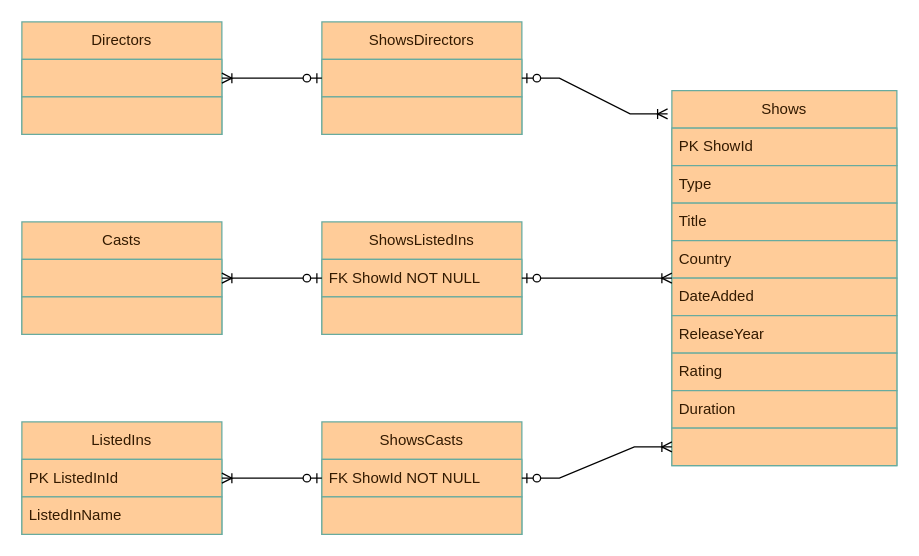
Some shapes in this 919 by 556 pixel diagram are drawn without their labels. The centre of each missing label's shape, as x and y in pixels:
CastName: [121,315]
Description: [784,446]
DirectorName: [121,115]
FK CastId NOT NULL: [421,515]
FK Director Id NOT NULL: [421,115]
FK ListedInId NOT NULL: [421,315]
FK ShowId NOT NULL: [421,77]
PK CastId: [121,277]
PK DirectorId: [121,77]
